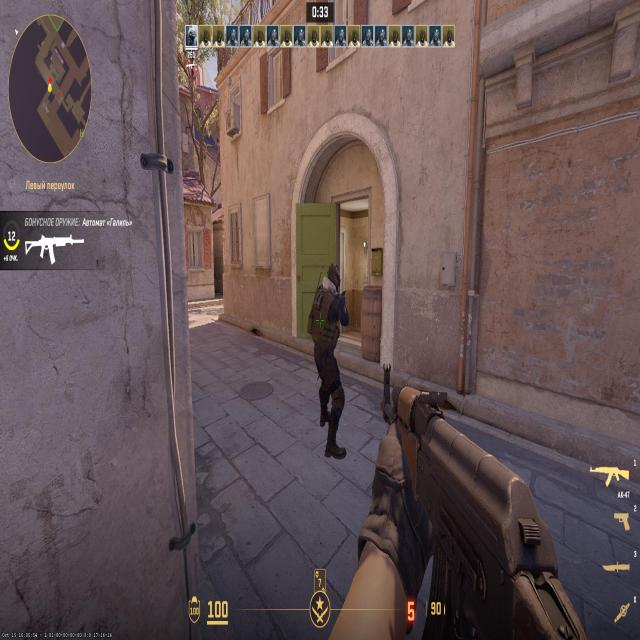CT: (317, 261, 343, 407)
CT_heat: (325, 278, 334, 296)
